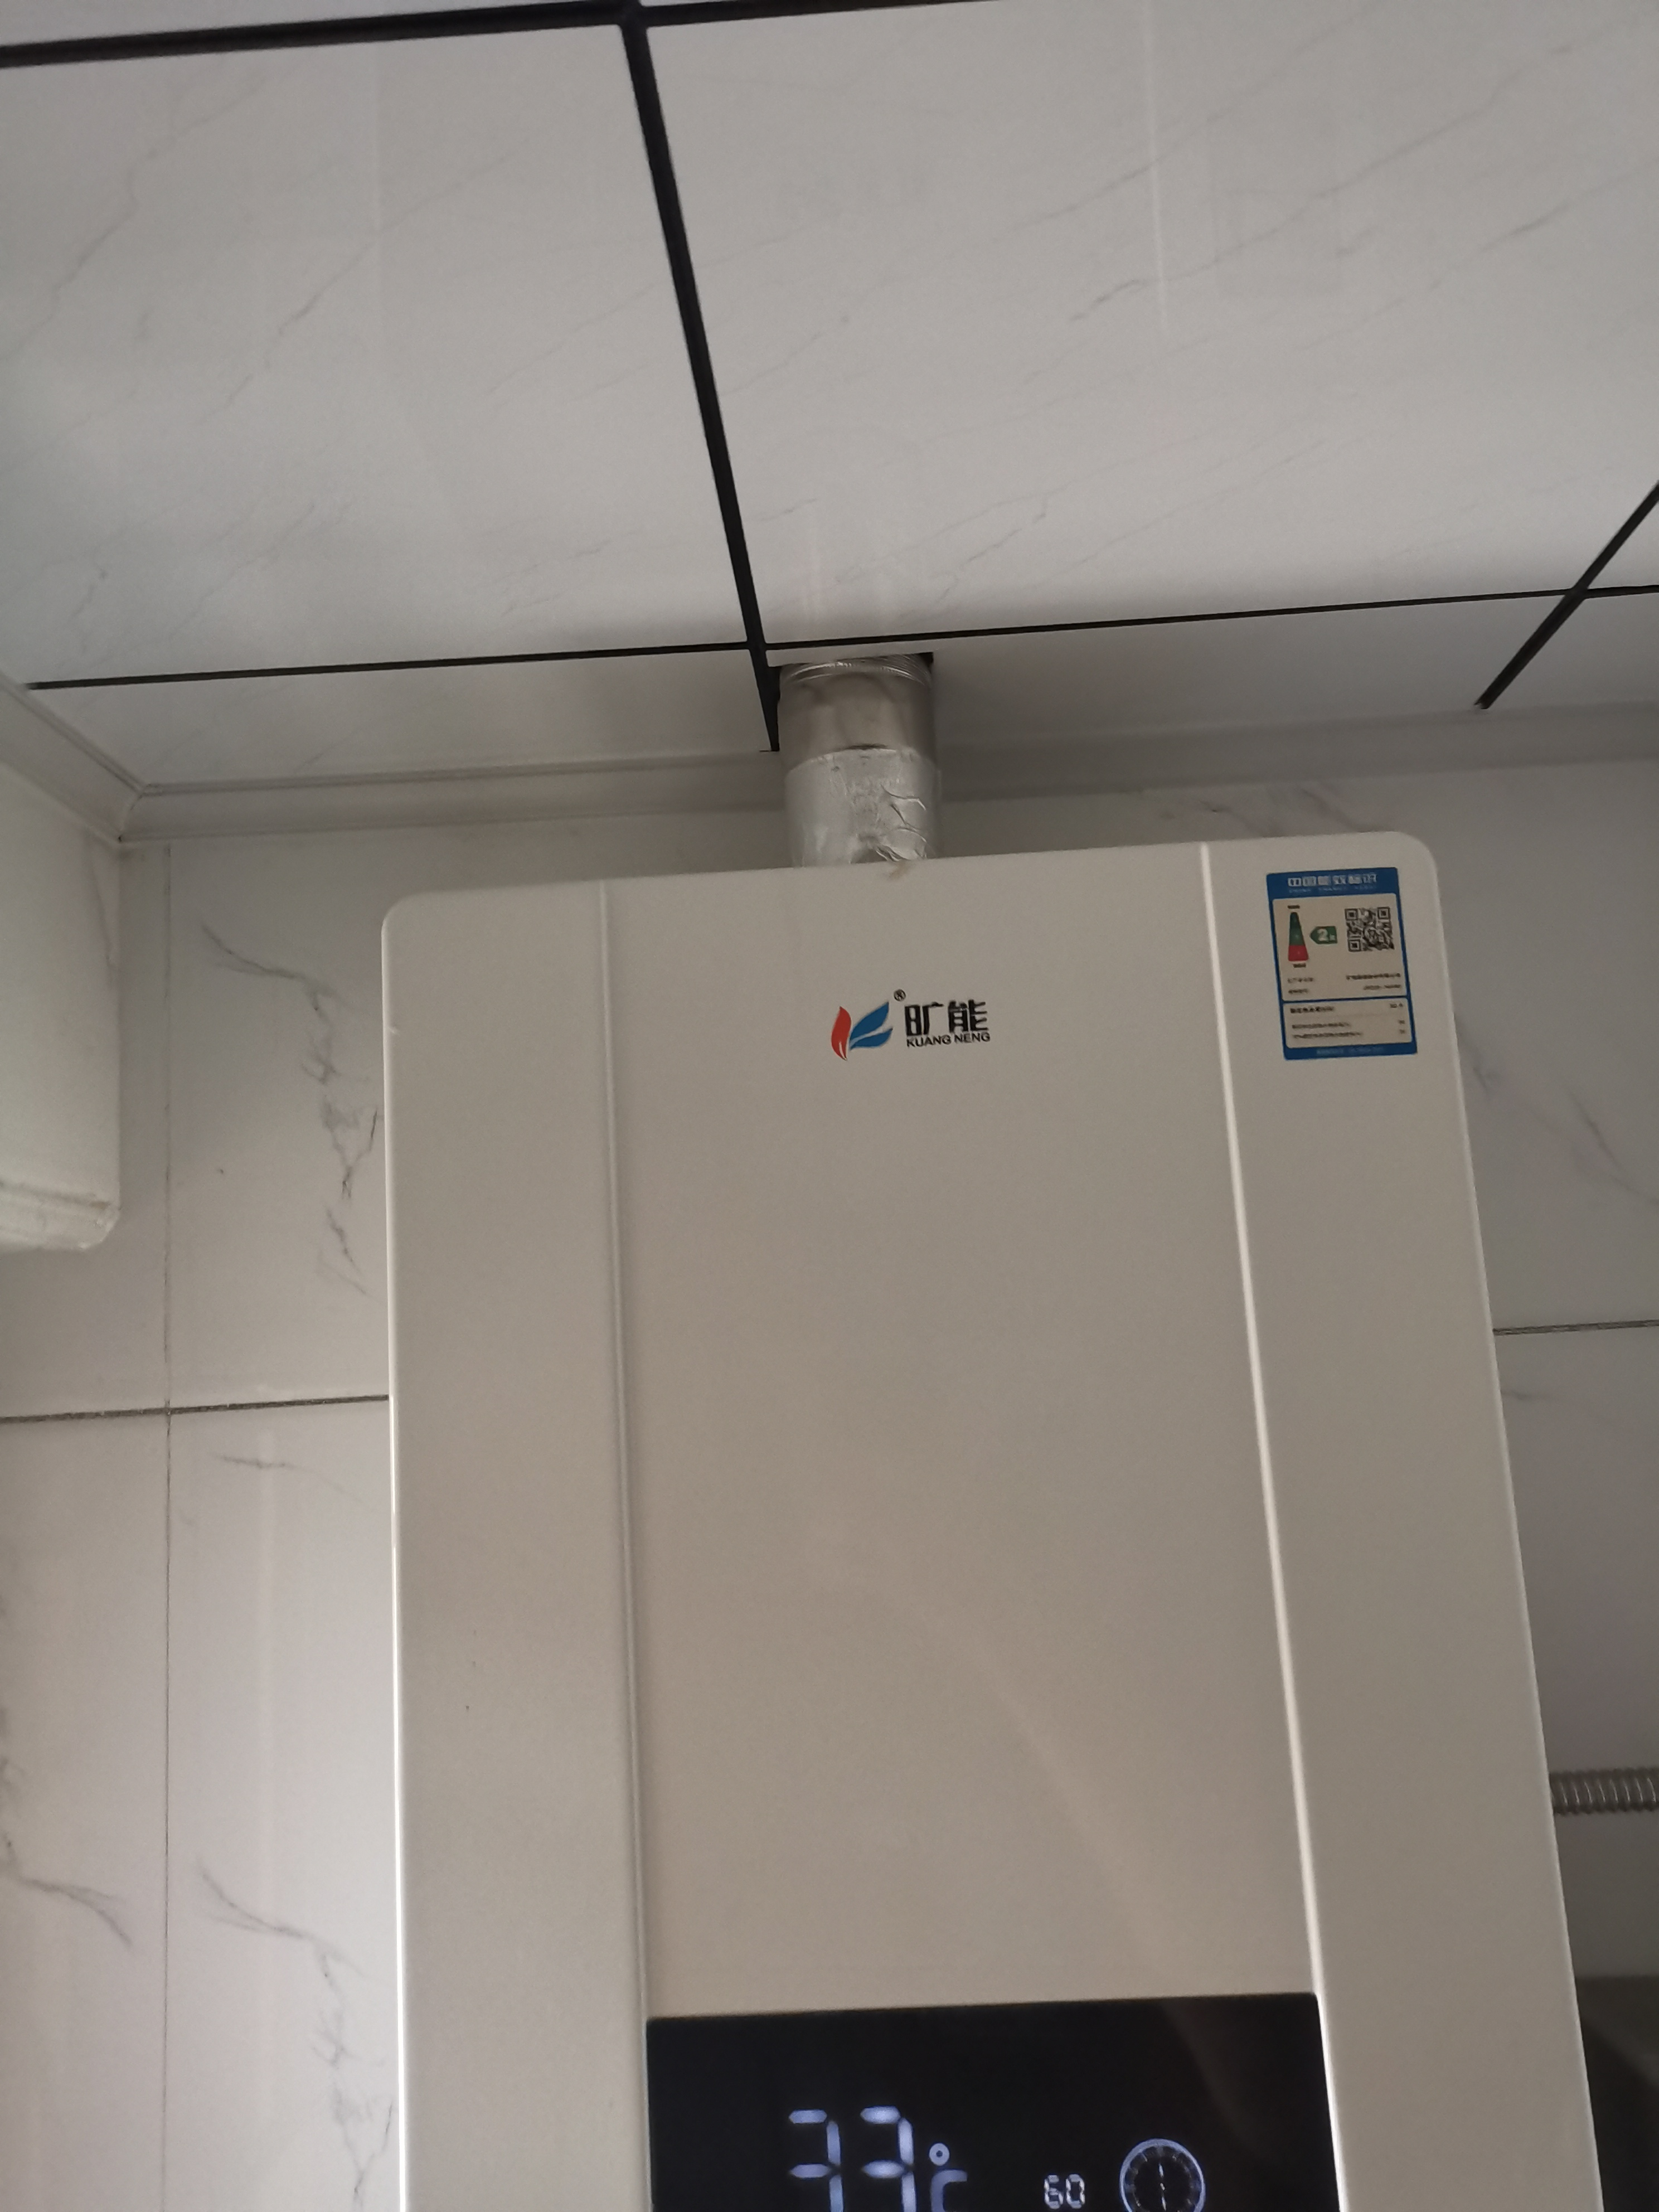loudou: (798, 986, 1014, 1069)
